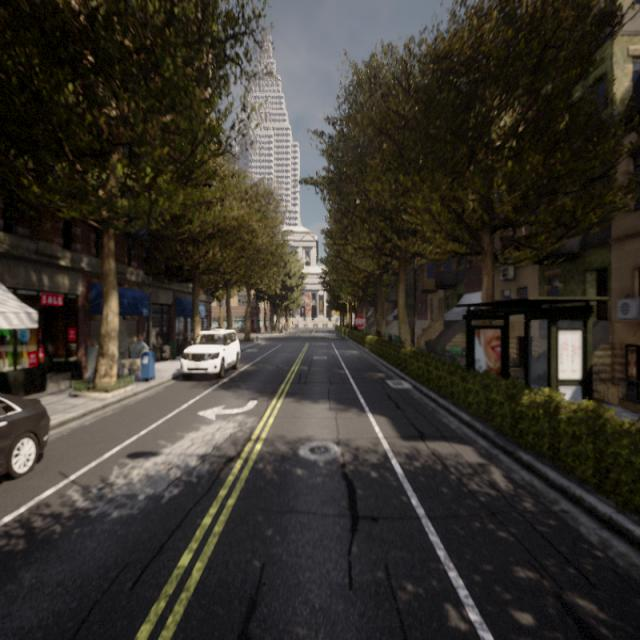stop sign: (353, 313, 366, 331)
